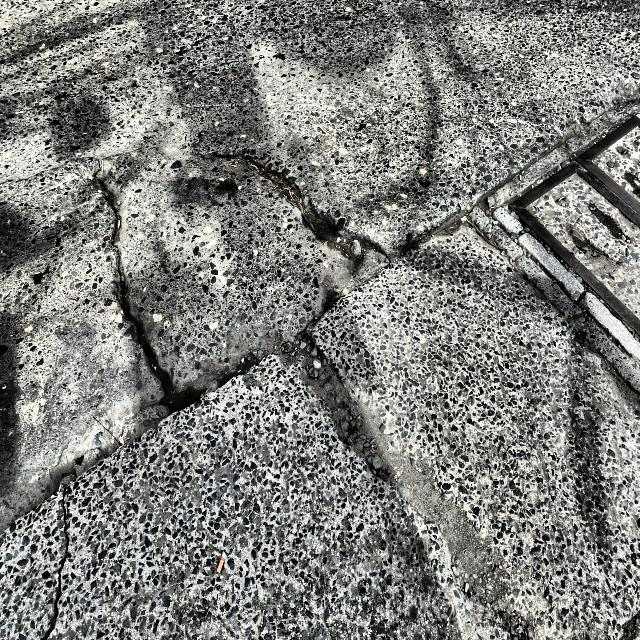cracks: (217, 155, 388, 274), (119, 262, 205, 413), (95, 175, 121, 242)
ravelling: (0, 0, 640, 290), (314, 230, 640, 638), (49, 360, 464, 640), (124, 161, 317, 355), (139, 231, 282, 360)
